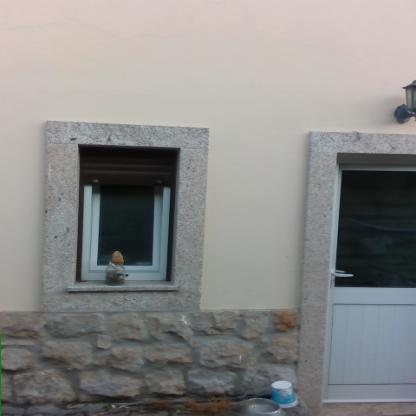closed: (300, 119, 416, 416)
